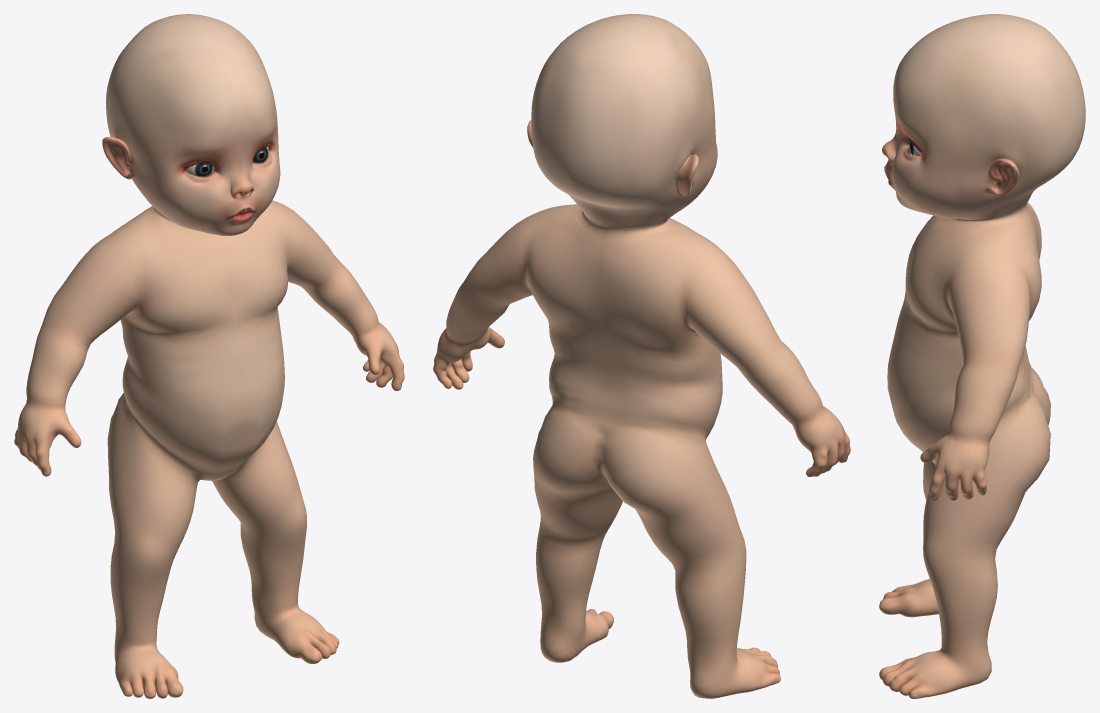
The model's file is mabyebaby.fbx.
3 renders of one model, left to right at view 1: azimuth 30°, elevation 25°; view 2: azimuth 150°, elevation 25°; view 3: azimuth 270°, elevation 25°, orthographic. The views are drawn at different scales.
Visible parts, largest first — view 1: baby; view 2: baby; view 3: baby.
Boxes of the visible parts, box(x1,y1,x2,y2) form: baby: box(14, 14, 404, 698); baby: box(433, 14, 850, 698); baby: box(879, 14, 1085, 698).
Size of the model in its own units: 30.99 by 49.2 by 14.73.
